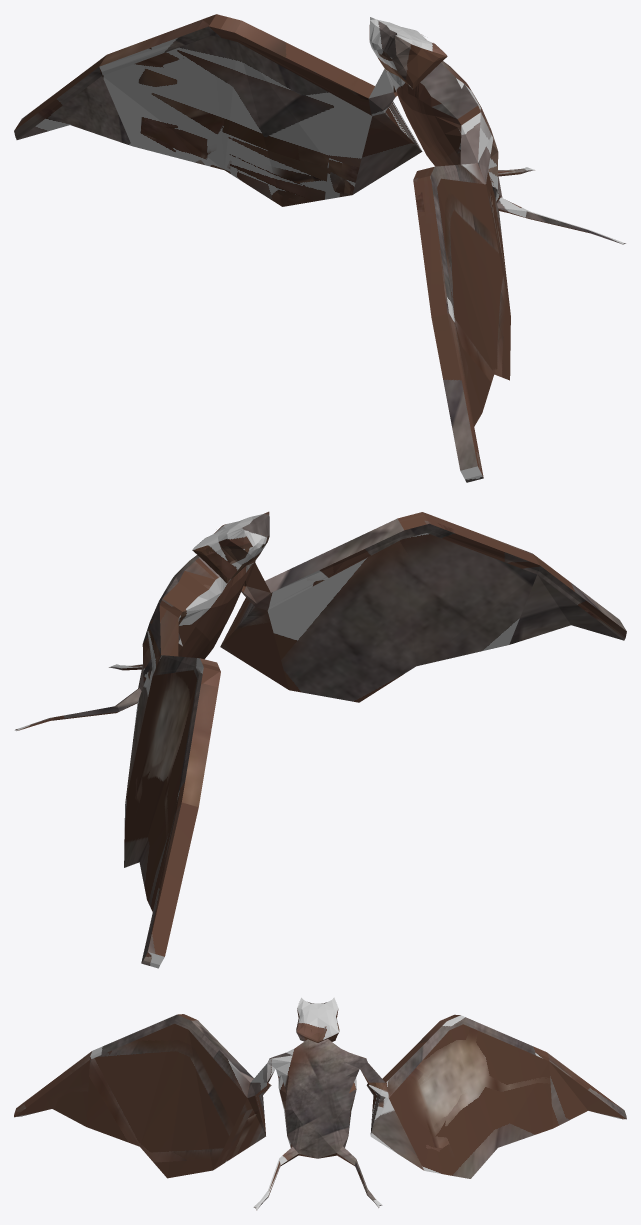
File: Enemigo112.obj
The picture shows the model from 3 angles, top to bottom: view 1: azimuth 30°, elevation 25°; view 2: azimuth 150°, elevation 25°; view 3: azimuth 270°, elevation 25°; orthographic projection. The views are drawn at different scales.
Parts seen in each view (by area): view 1: Plano; view 2: Plano; view 3: Plano.
Part boxes in pixels (bbox=[...]): Plano: bbox=[14, 14, 625, 482]; Plano: bbox=[15, 511, 626, 968]; Plano: bbox=[14, 997, 626, 1210].
Size of the model in its own units: 0.8559 by 0.6399 by 2.
1 material, 1 textured.
